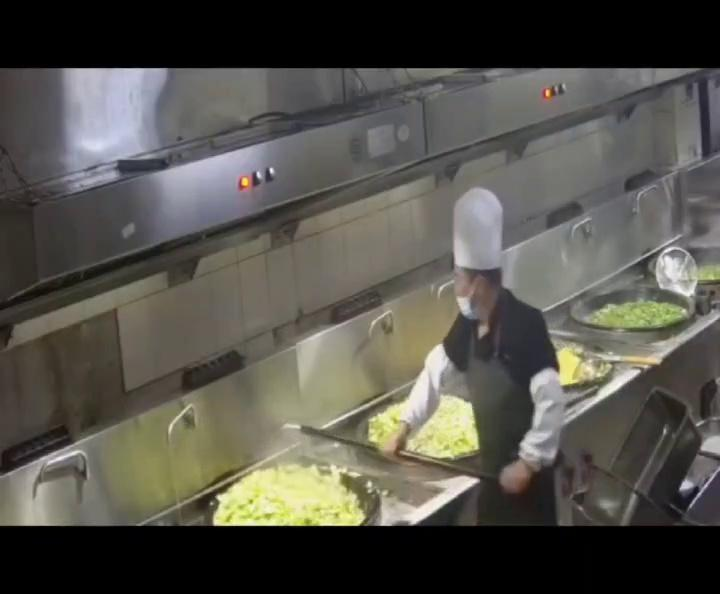mask: (448, 272, 485, 320)
